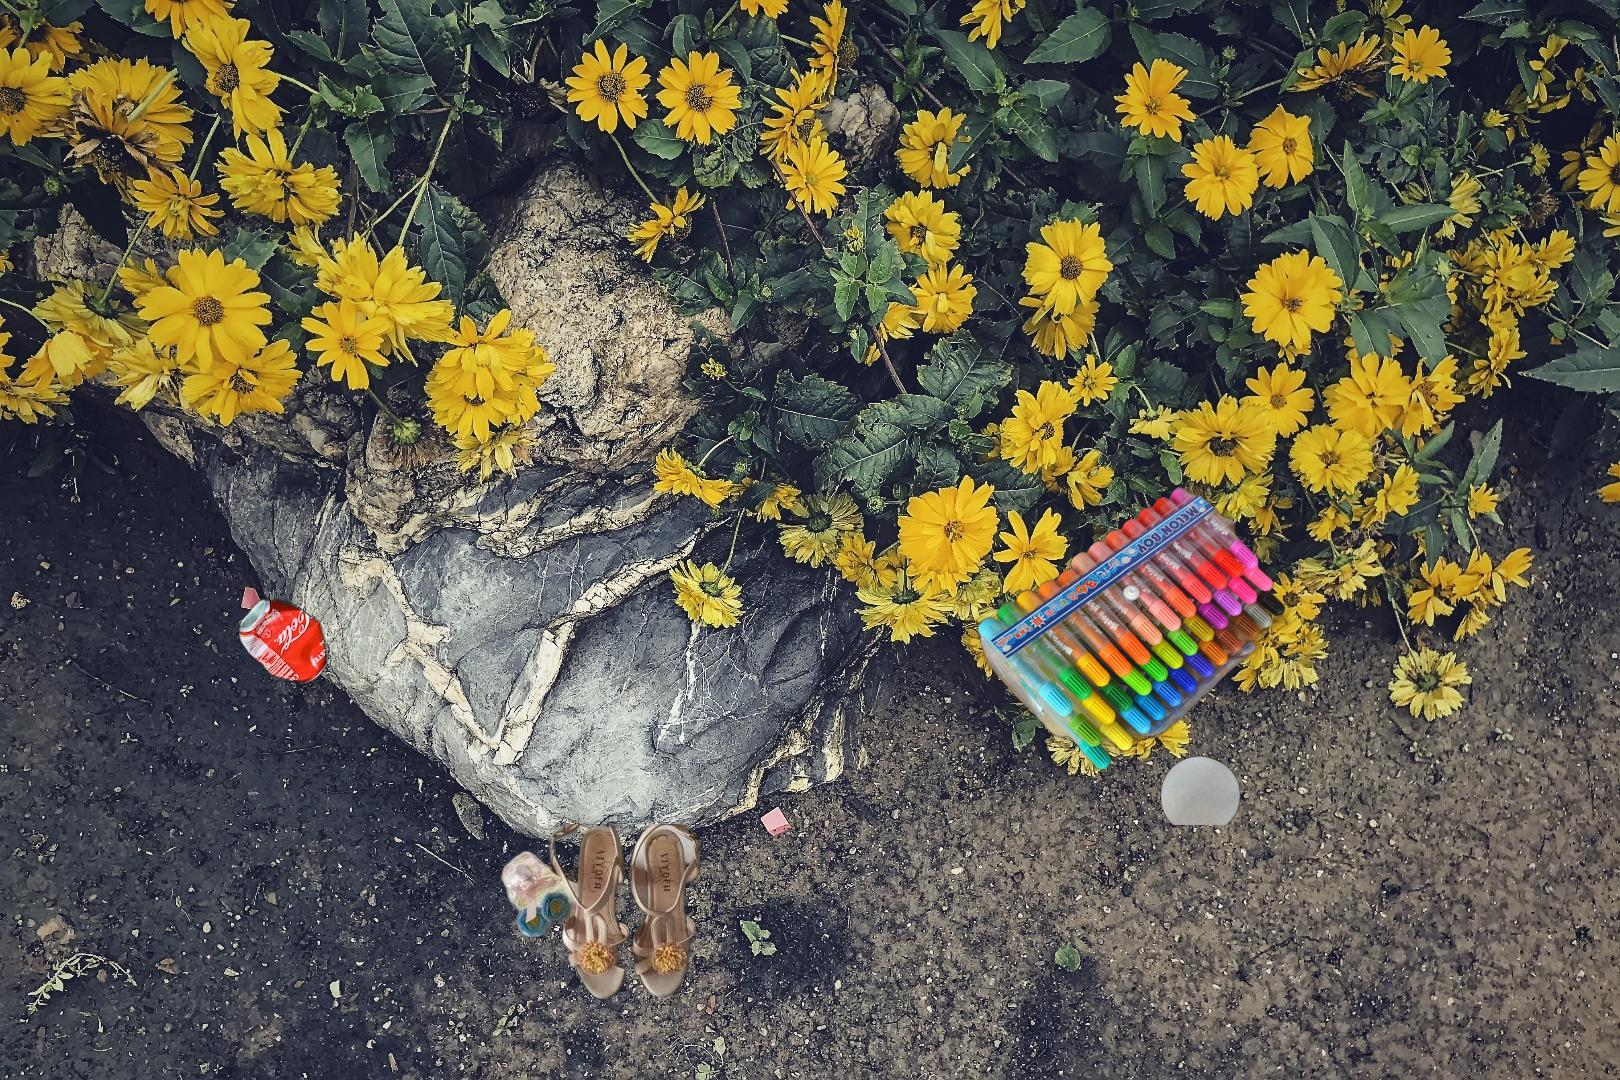metal-cans: (234, 593, 482, 914)
penholder: (974, 485, 1290, 824)
shoes: (497, 824, 704, 1002)
